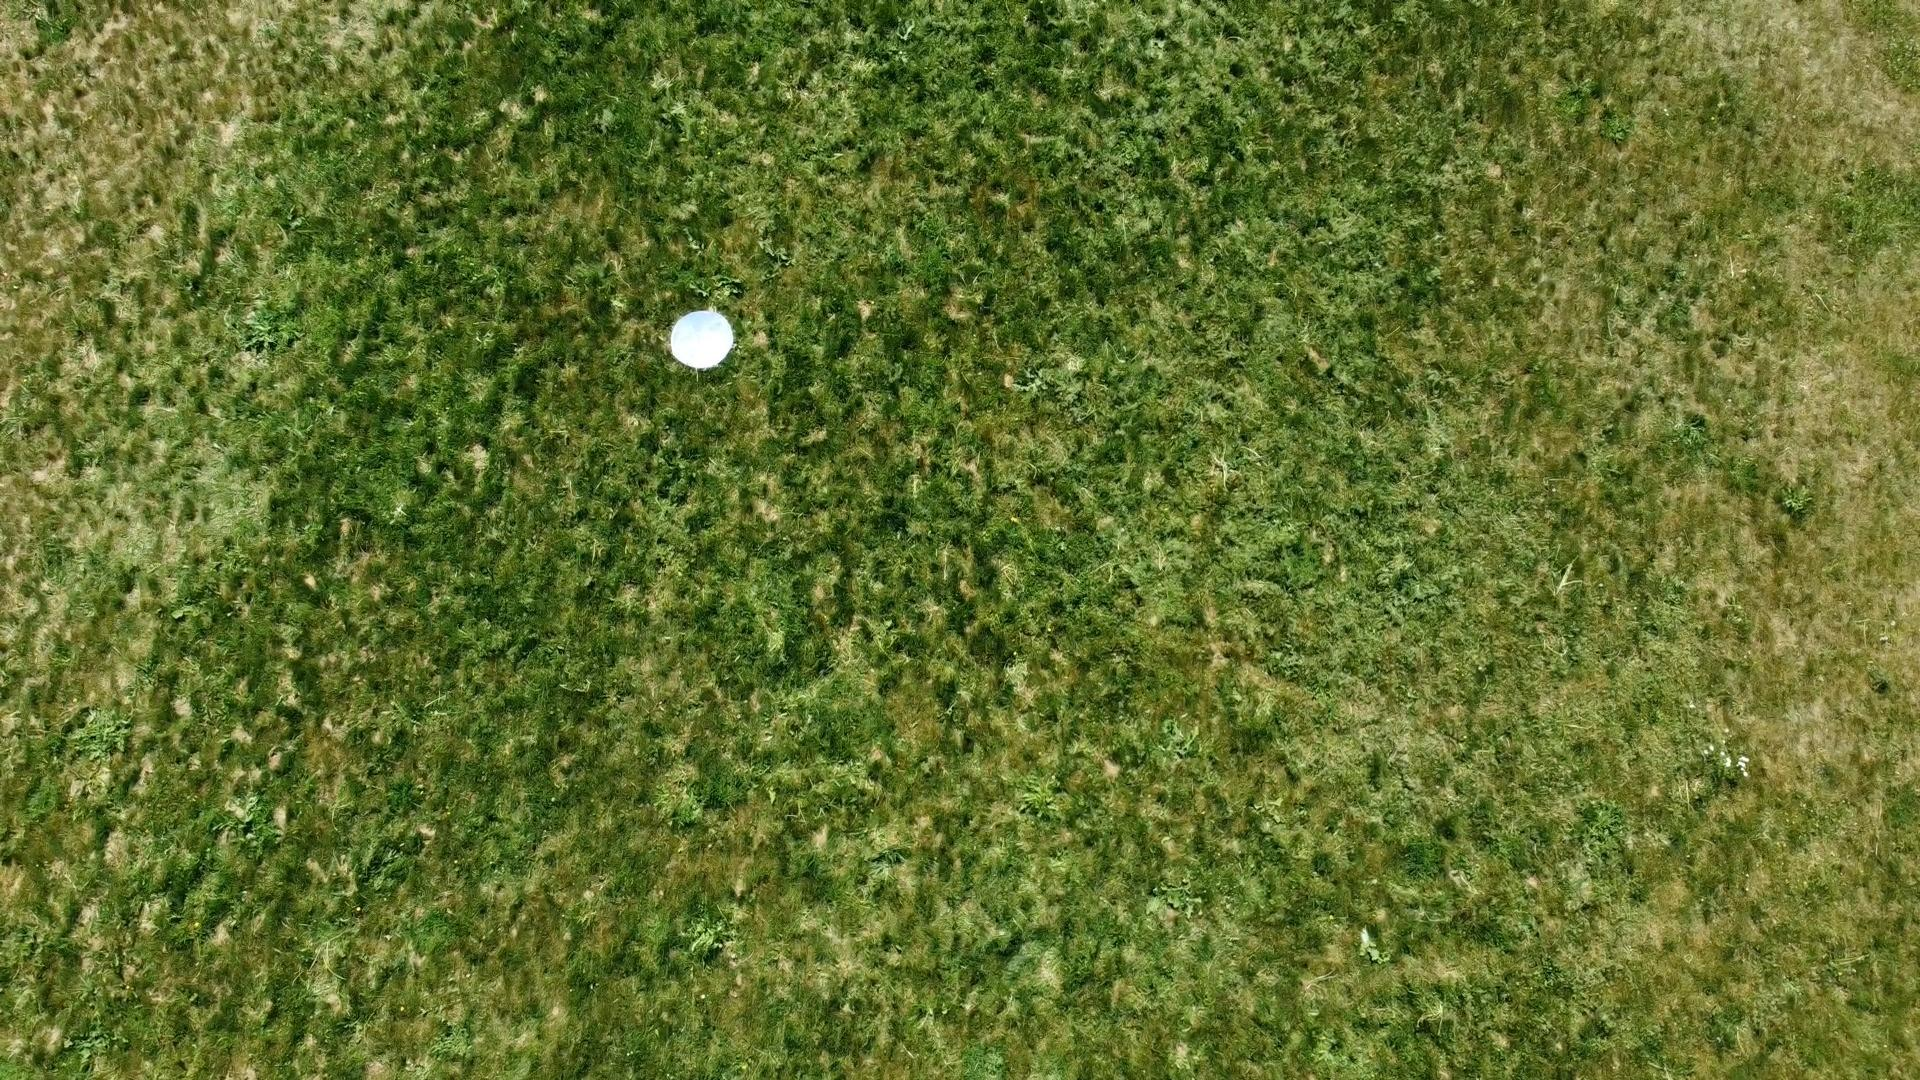Blue: (669, 307, 737, 372)
